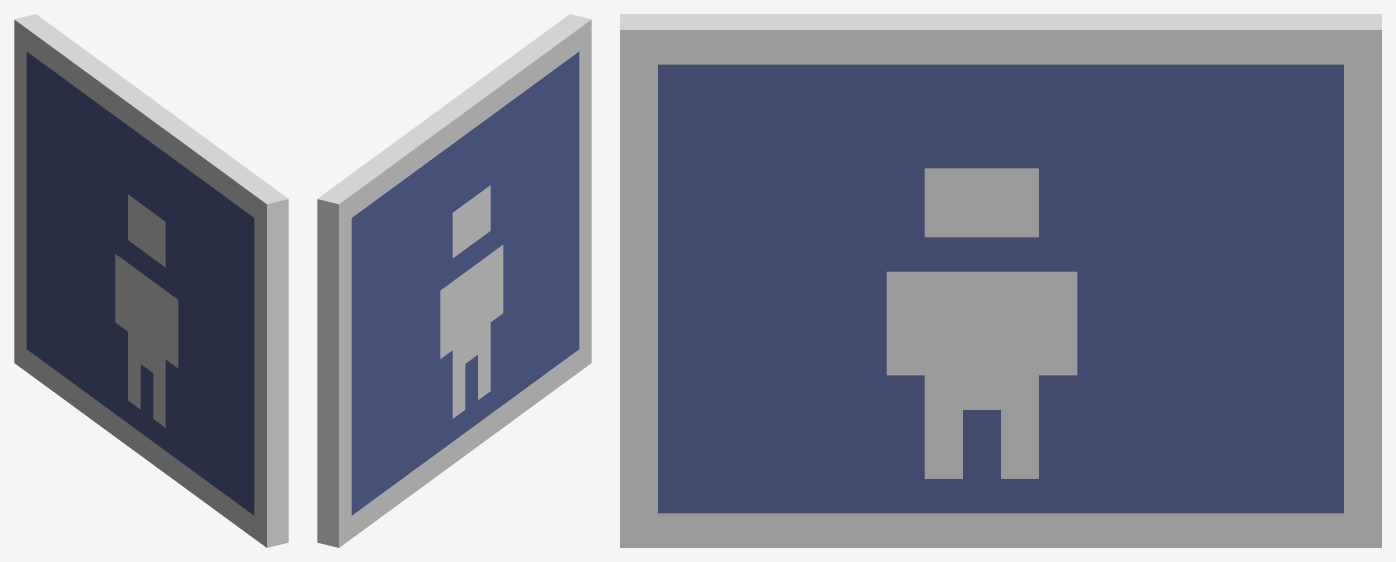
The model's file is SchoolPack-22-Men's Bath Sign.obj.
The picture shows the model from 3 angles, left to right: view 1: azimuth 30°, elevation 25°; view 2: azimuth 150°, elevation 25°; view 3: azimuth 270°, elevation 25°; orthographic projection. The views are drawn at different scales.
Visible parts, largest first — view 1: Men's Bath Sign; view 2: Men's Bath Sign; view 3: Men's Bath Sign.
Boxes of the visible parts, x1,y1,x2,y2 form: Men's Bath Sign: (14,14,288,547); Men's Bath Sign: (317,14,591,547); Men's Bath Sign: (620,14,1381,547).
Size of the model in its own units: 0.1 by 1.5 by 2.
1 material, 1 textured.
